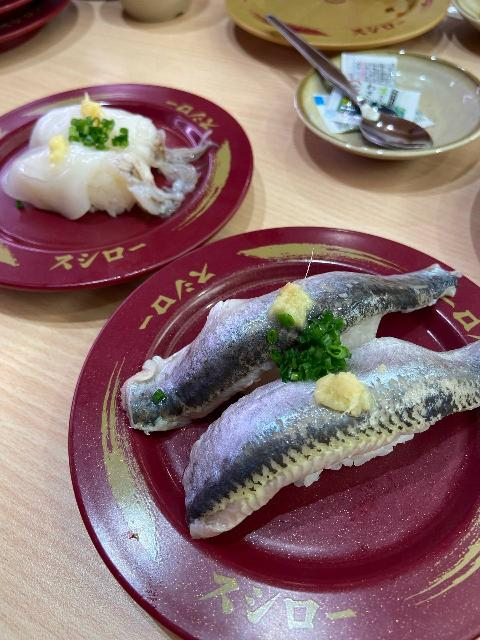jangold: (222, 0, 463, 54)
janred: (100, 229, 480, 623), (4, 85, 236, 277), (0, 11, 75, 58), (0, 0, 25, 16)
